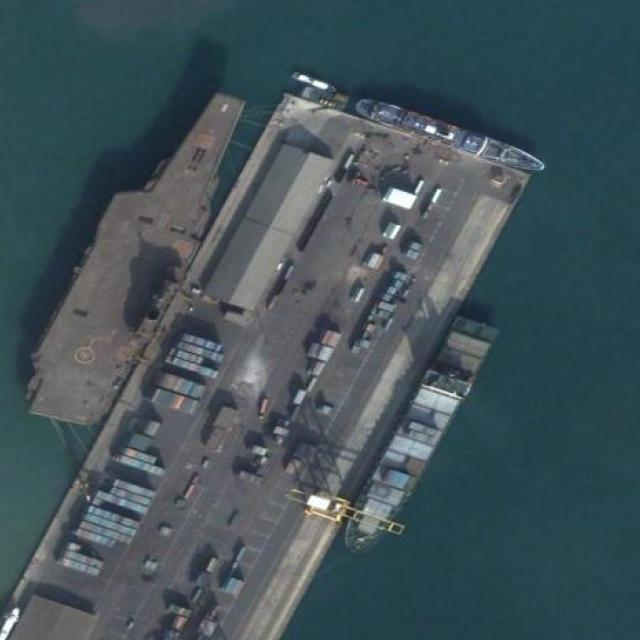Aircraft Carrier: (7, 64, 267, 449)
Cargo: (354, 92, 550, 178)
Container Ship: (335, 310, 500, 564)
